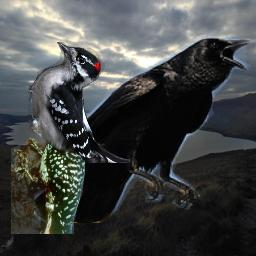Crow: (34, 35, 251, 223)
Woodpecker: (28, 42, 130, 163), (11, 110, 85, 234)
